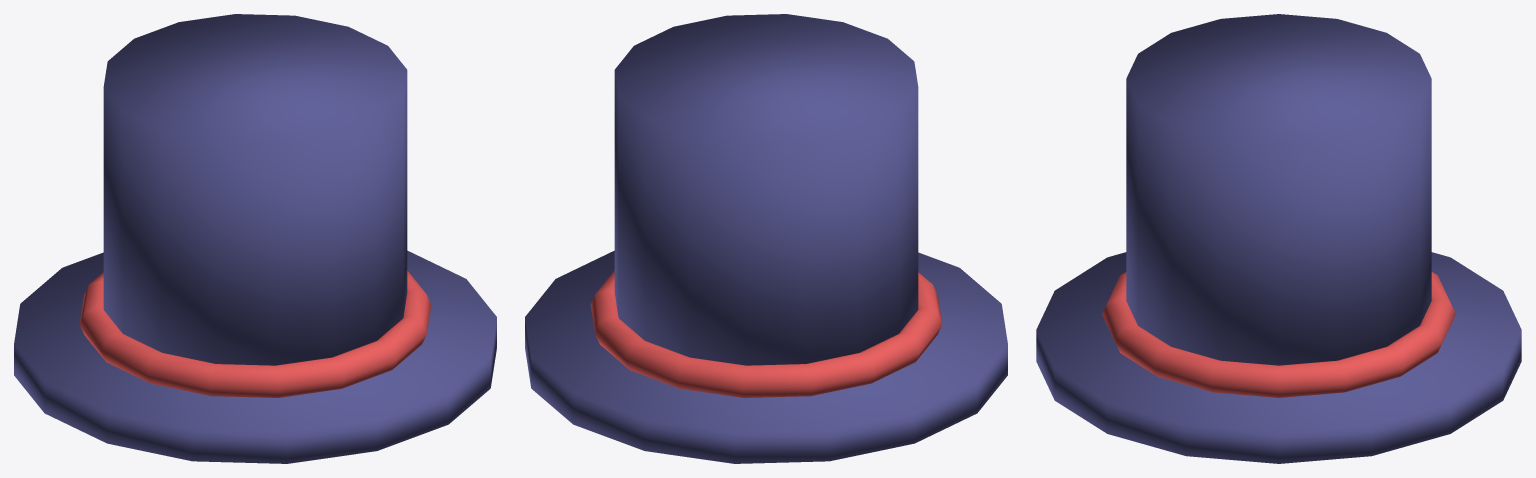
Rendered from hat.glb.
3 renders of one model, left to right at view 1: azimuth 30°, elevation 25°; view 2: azimuth 150°, elevation 25°; view 3: azimuth 270°, elevation 25°, orthographic.
Visible parts, largest first — view 1: Hat; view 2: Hat; view 3: Hat.
Boxes of the visible parts, bbox=[...] form: Hat: bbox=[14, 14, 496, 463]; Hat: bbox=[525, 14, 1007, 463]; Hat: bbox=[1036, 14, 1521, 463].
Bounding box in the file's own units: 0.7 × 0.45 × 0.7.
